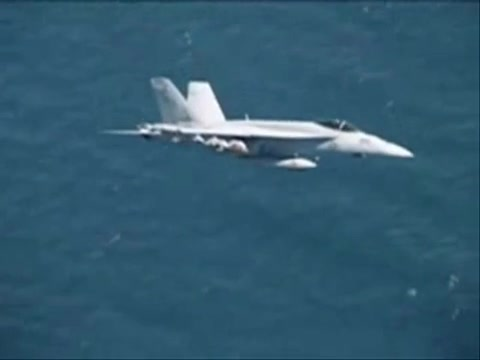aeroplane: (99, 78, 416, 173)
